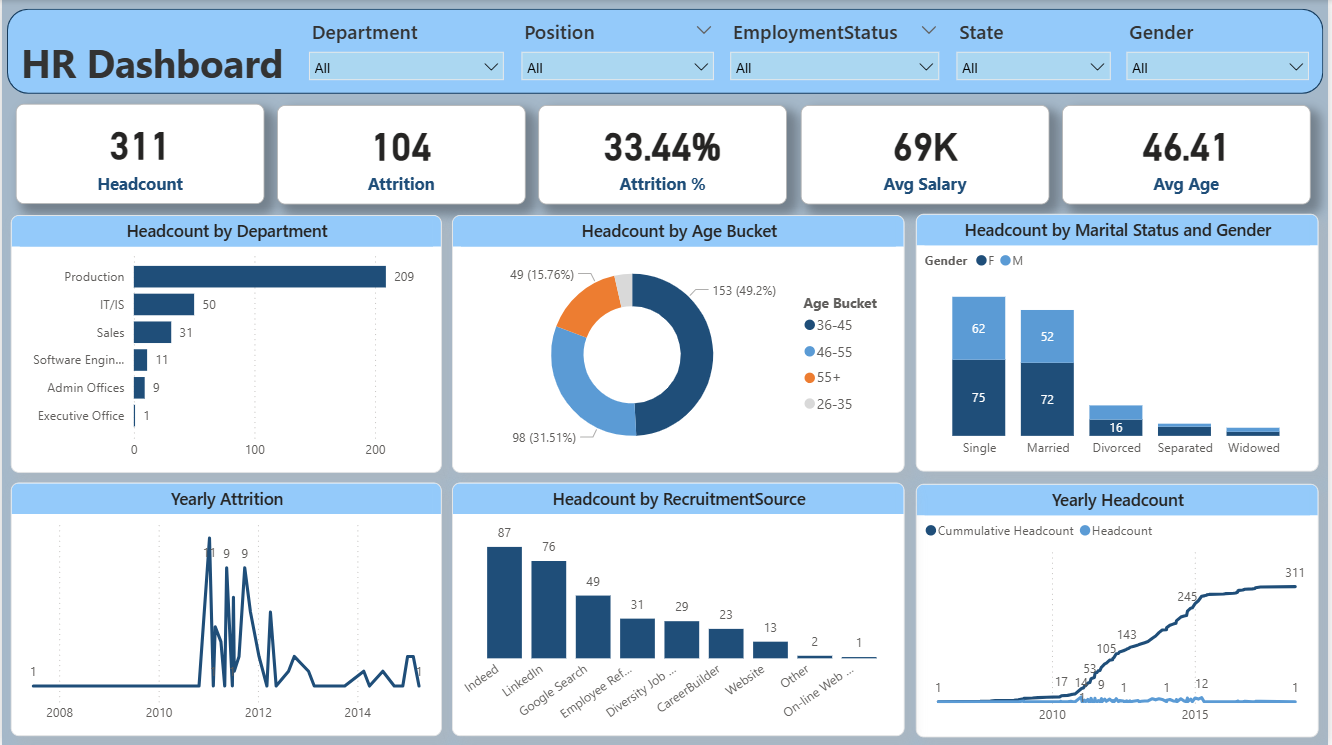

The dashboard page shown, as its layout file describes it:
{"tool":"powerbi","page":{"name":"Page 1","canvas":[1280,720],"ordinal":0},"visuals":[{"type":"shape","box":[4.8,8.4,1270.4,82],"z":0},{"type":"card","fields":{"Values":["Measures (2).Headcount"]},"box":[13.3,100.1,240.1,96.5],"z":1000},{"type":"card","fields":{"Values":["Measures (2).Attrition"]},"box":[265.7,100.9,240,95.7],"z":2000},{"type":"card","fields":{"Values":["Measures (2).Attrition %"]},"box":[517.9,100.9,240,95.7],"z":3000},{"type":"card","fields":{"Values":["Measures (2).Avg Salary"]},"box":[770.4,100.9,240,95.7],"z":4000},{"type":"card","fields":{"Values":["Measures (2).Avg Age"]},"box":[1022.9,100.9,240,95.7],"z":5000},{"type":"clusteredBarChart","fields":{"Y":["Measures (2).Headcount"],"Category":["HRDataset_v14 xlsx - HRDataset_v14.Department"]},"box":[8.6,207.1,415.7,248.6],"z":6000},{"type":"donutChart","fields":{"Category":["HRDataset_v14 xlsx - HRDataset_v14.Age Bucket"],"Y":["Measures (2).Headcount"]},"box":[434.3,207.1,437.1,248.6],"z":7000},{"type":"columnChart","title":"Headcount by Marital Status and Gender","fields":{"Category":["HRDataset_v14 xlsx - HRDataset_v14.MaritalDesc"],"Y":["Measures (2).Headcount"],"Series":["HRDataset_v14 xlsx - HRDataset_v14.Gender"]},"box":[881.4,205.7,388.6,248.6],"z":8000},{"type":"lineChart","title":"Yearly Headcount","fields":{"Category":["HRDataset_v14 xlsx - HRDataset_v14.DateofHire"],"Y":["Measures (2).Cummulative Headcount","Measures (2).Headcount"]},"box":[881.9,466.9,388.5,244.9],"z":9000},{"type":"lineChart","title":"Yearly Attrition ","fields":{"Y":["Measures (2).Attrition"],"Category":["HRDataset_v14 xlsx - HRDataset_v14.DateofHire"]},"box":[8.4,465.7,416.2,244.9],"z":10000},{"type":"columnChart","fields":{"Y":["Measures (2).Headcount"],"Category":["HRDataset_v14 xlsx - HRDataset_v14.RecruitmentSource"]},"box":[434.3,465.7,436.7,244.9],"z":11000},{"type":"slicer","fields":{"Values":["HRDataset_v14 xlsx - HRDataset_v14.Department"]},"box":[285.9,13.3,208.7,65.1],"z":12000},{"type":"slicer","fields":{"Values":["HRDataset_v14 xlsx - HRDataset_v14.EmploymentStatus"]},"box":[692.5,13.3,222,65.1],"z":13000},{"type":"slicer","fields":{"Values":["HRDataset_v14 xlsx - HRDataset_v14.Position"]},"box":[490.4,13.3,206.3,65.1],"z":14000},{"type":"slicer","fields":{"Values":["HRDataset_v14 xlsx - HRDataset_v14.Gender"]},"box":[1074.9,13.3,196.6,65.1],"z":15000},{"type":"slicer","fields":{"Values":["HRDataset_v14 xlsx - HRDataset_v14.State"]},"box":[910.3,13.3,168.9,65.1],"z":16000},{"type":"textbox","box":[13.3,30.2,300.4,96.5],"z":17000}]}

Visuals, with their boxes in screenshot pixels (x1, y1, x2, y2), scaled from the page's 1280x720 canvas onto the 1332x745 screenshot:
shape: detection(5, 9, 1327, 94)
card - Measures (2).Headcount: detection(14, 104, 264, 203)
card - Measures (2).Attrition: detection(276, 104, 526, 203)
card - Measures (2).Attrition %: detection(539, 104, 789, 203)
card - Measures (2).Avg Salary: detection(802, 104, 1051, 203)
card - Measures (2).Avg Age: detection(1064, 104, 1314, 203)
clusteredBarChart - Measures (2).Headcount x HRDataset_v14 xlsx - HRDataset_v14.Department: detection(9, 214, 442, 472)
donutChart - HRDataset_v14 xlsx - HRDataset_v14.Age Bucket x Measures (2).Headcount: detection(452, 214, 907, 472)
"Headcount by Marital Status and Gender" columnChart: detection(917, 213, 1322, 470)
"Yearly Headcount" lineChart: detection(918, 483, 1322, 737)
"Yearly Attrition " lineChart: detection(9, 482, 442, 735)
columnChart - Measures (2).Headcount x HRDataset_v14 xlsx - HRDataset_v14.RecruitmentSource: detection(452, 482, 906, 735)
slicer - HRDataset_v14 xlsx - HRDataset_v14.Department: detection(298, 14, 515, 81)
slicer - HRDataset_v14 xlsx - HRDataset_v14.EmploymentStatus: detection(721, 14, 952, 81)
slicer - HRDataset_v14 xlsx - HRDataset_v14.Position: detection(510, 14, 725, 81)
slicer - HRDataset_v14 xlsx - HRDataset_v14.Gender: detection(1119, 14, 1323, 81)
slicer - HRDataset_v14 xlsx - HRDataset_v14.State: detection(947, 14, 1123, 81)
textbox: detection(14, 31, 326, 131)
